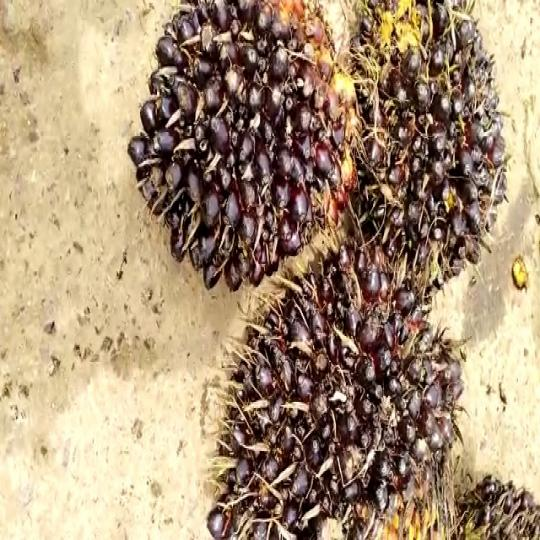mentah: (206, 250, 473, 540), (132, 0, 366, 282), (342, 0, 515, 311)
